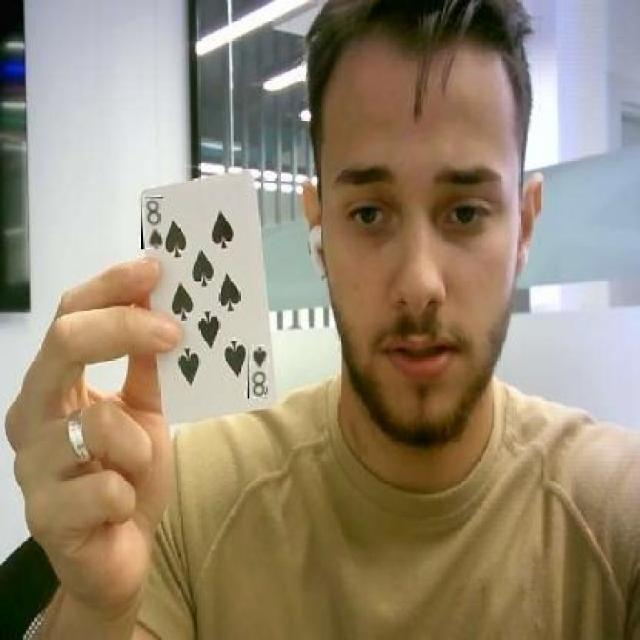8S: (140, 197, 163, 249), (248, 346, 268, 399)
